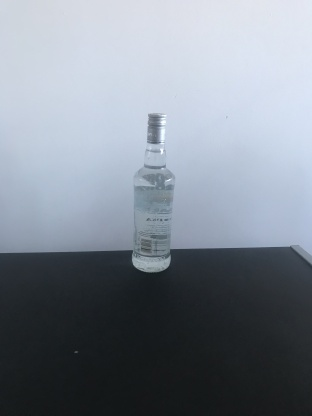nakretka: (145, 110, 168, 144)
